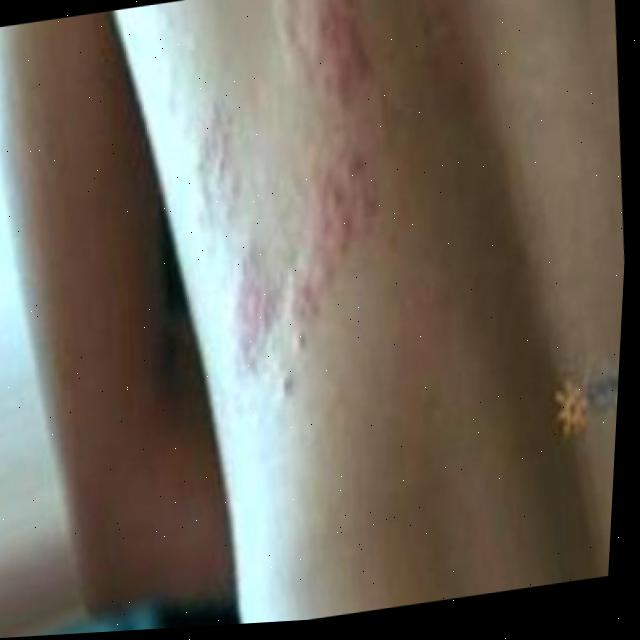Shingles: (189, 0, 412, 394)
